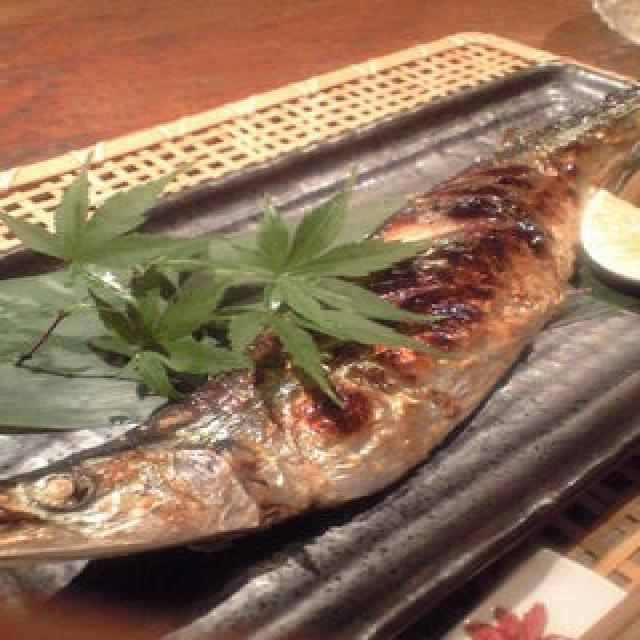熟制海鲜: (0, 76, 640, 608)
